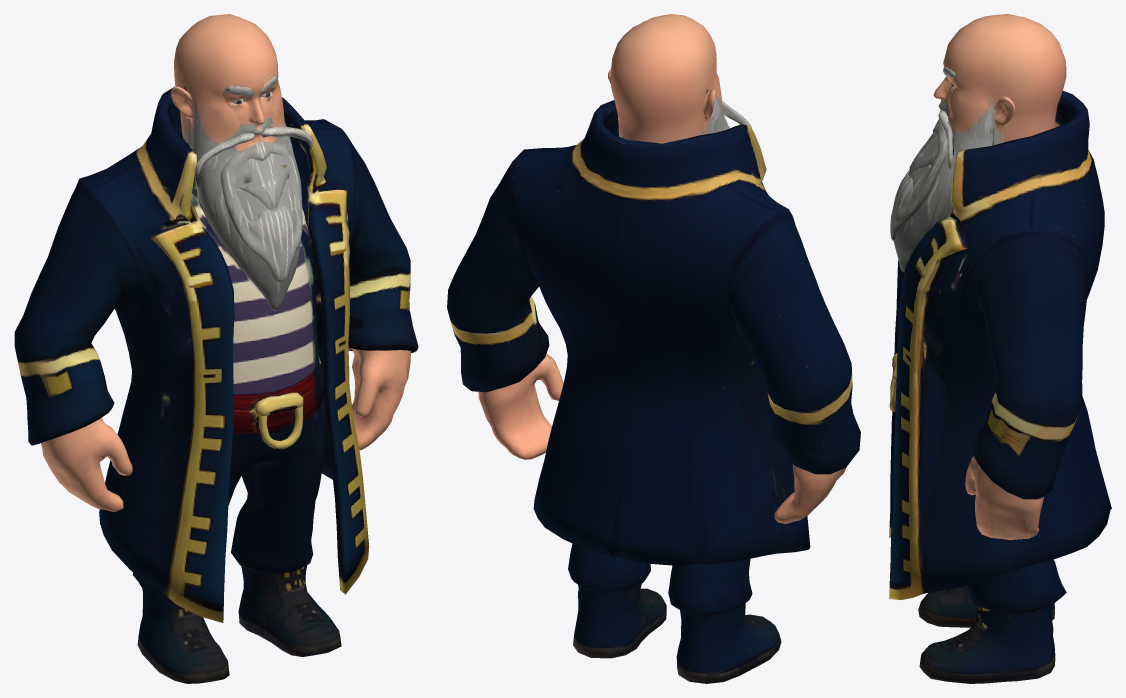
The model's file is david_busto.glb.
3 views of the same model, side by side, from view 1: azimuth 30°, elevation 25°; view 2: azimuth 150°, elevation 25°; view 3: azimuth 270°, elevation 25° (orthographic).
Bounding box in the file's own units: 0.6523 × 1 × 0.3252.
Materials: 1 (1 with a texture image).
